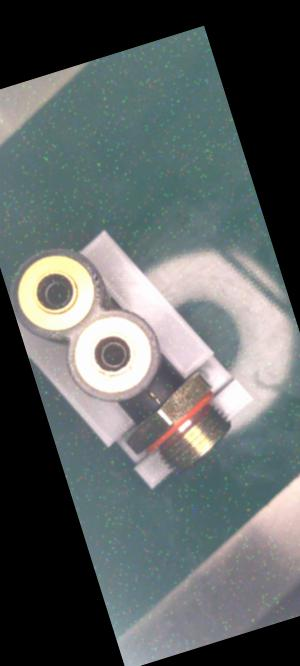craze: (144, 385, 163, 409)
